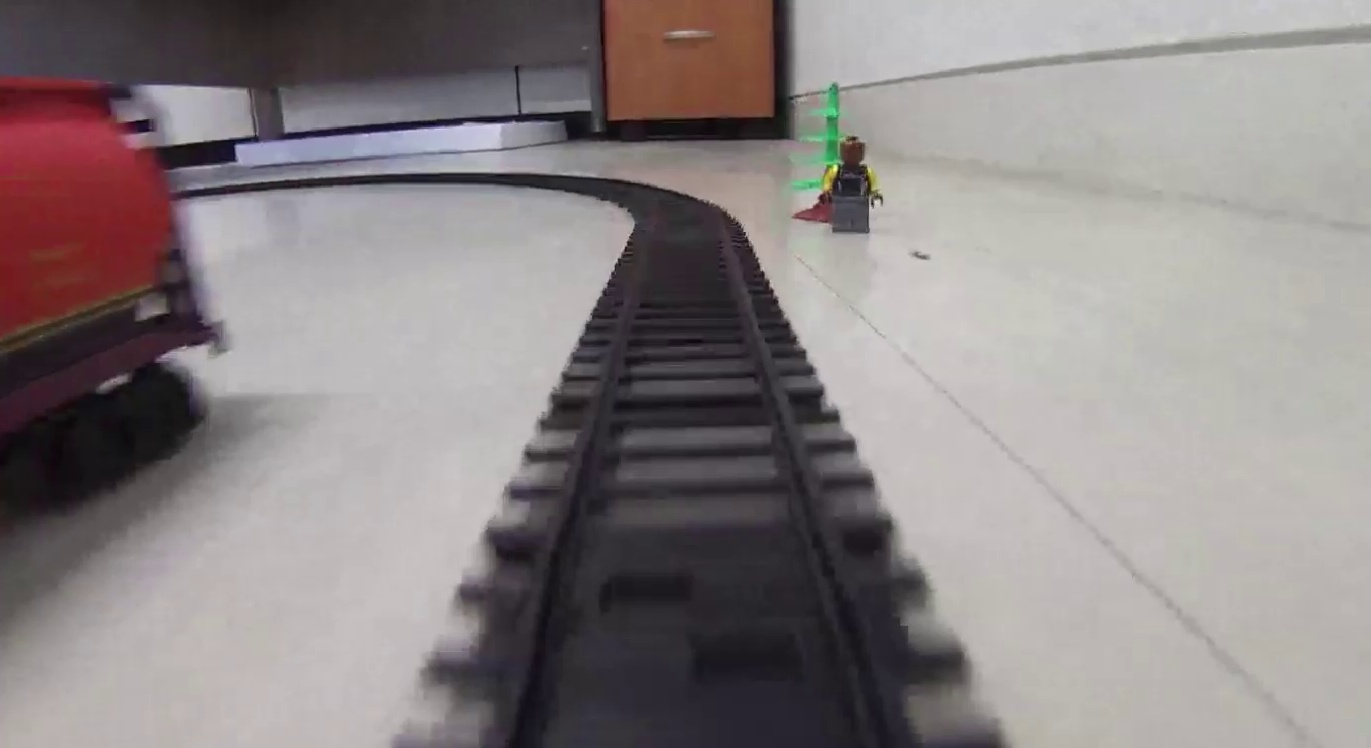people: (825, 135, 883, 232)
